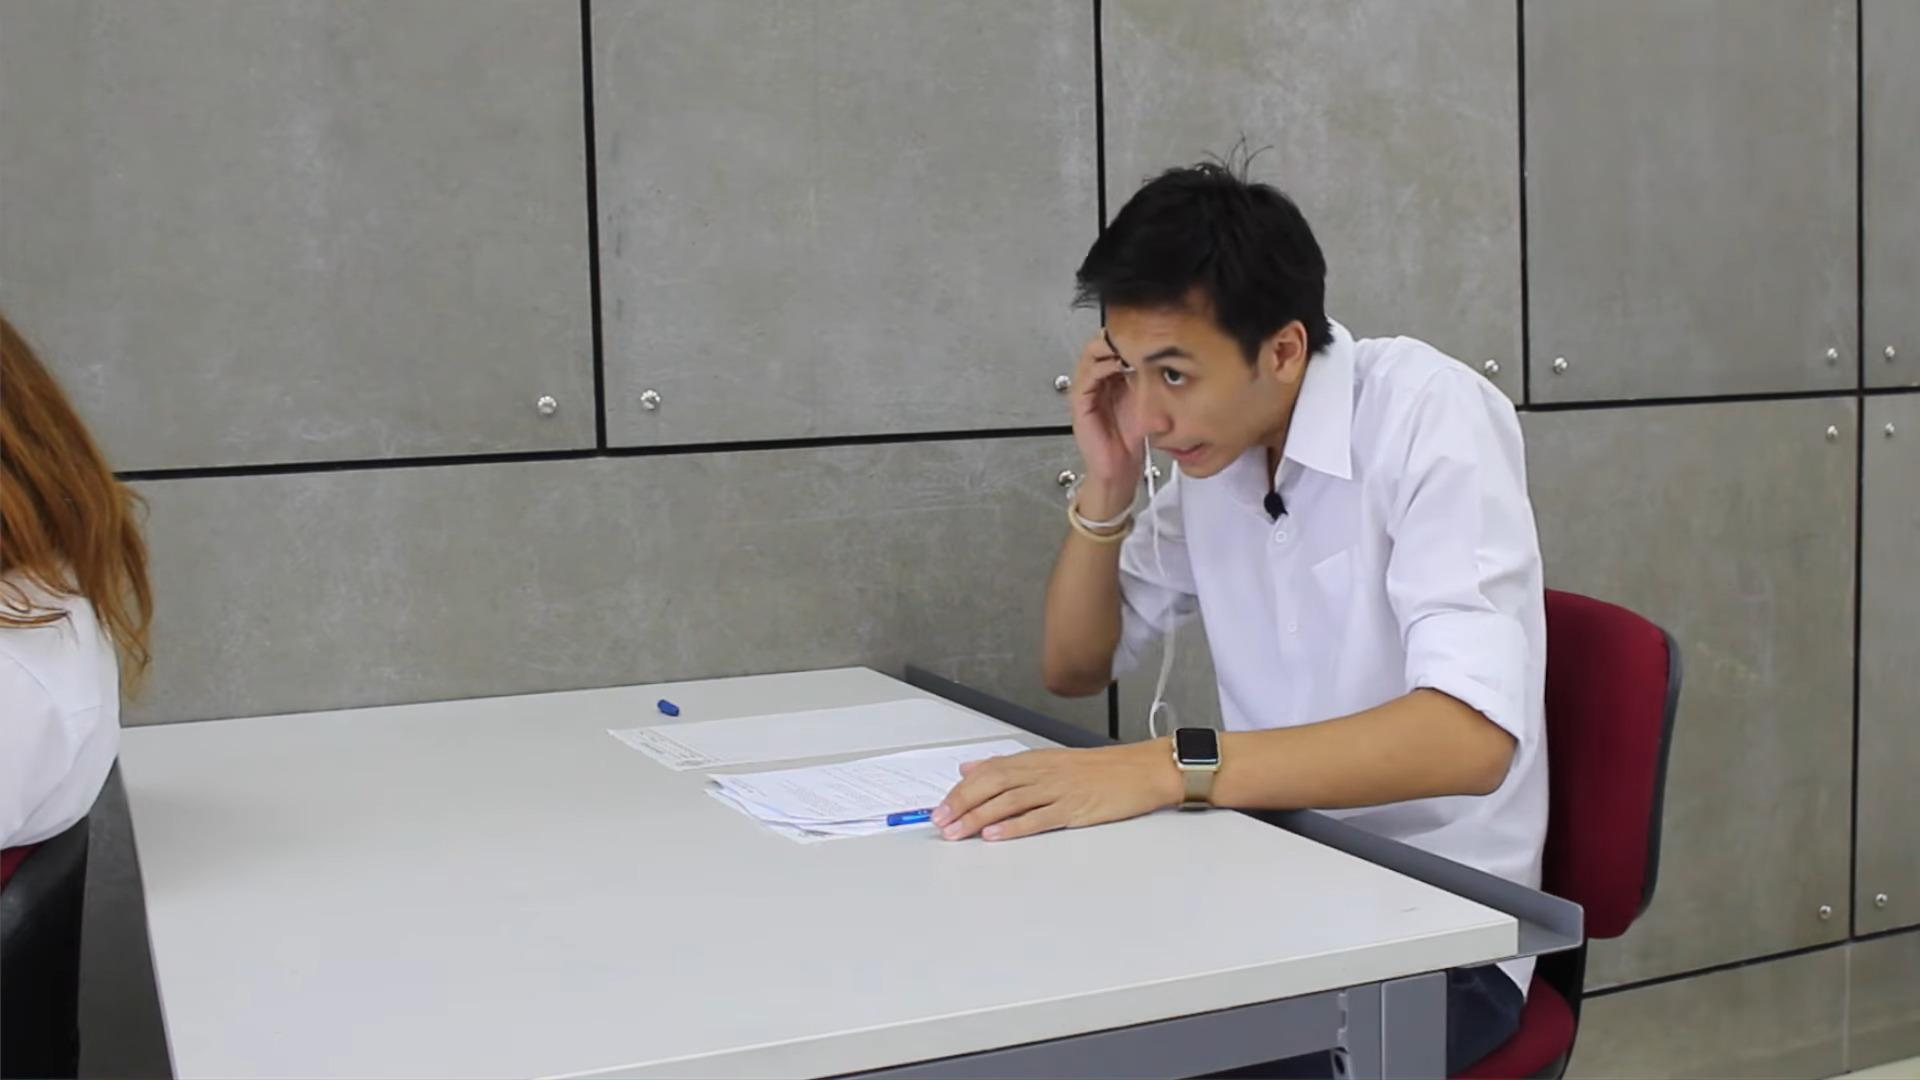cheating: (570, 136, 1590, 913)
